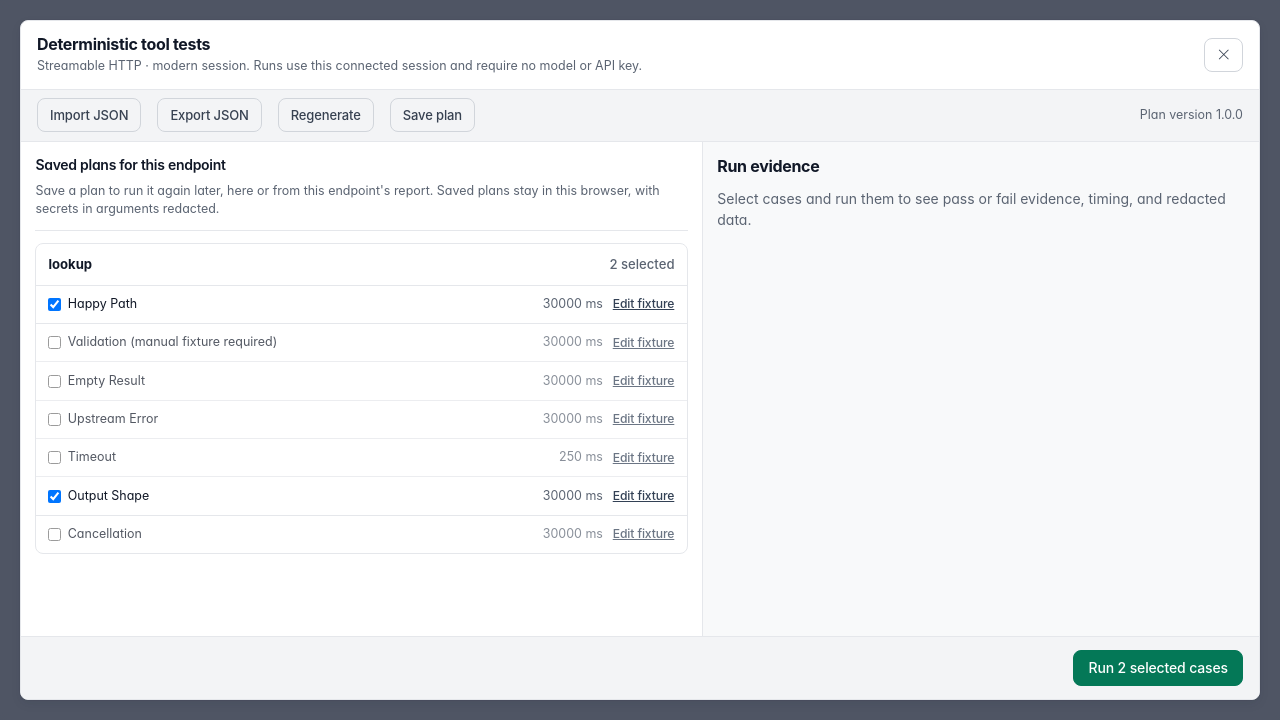
Test case: DeterministicTestPanel › runs selected read-only fixtures and renders pass/fail evidence
This screenshot has width=1280, height=720.
Click the button "Run 2 selected cases" at (1158, 668), box [1074, 650, 1243, 686]
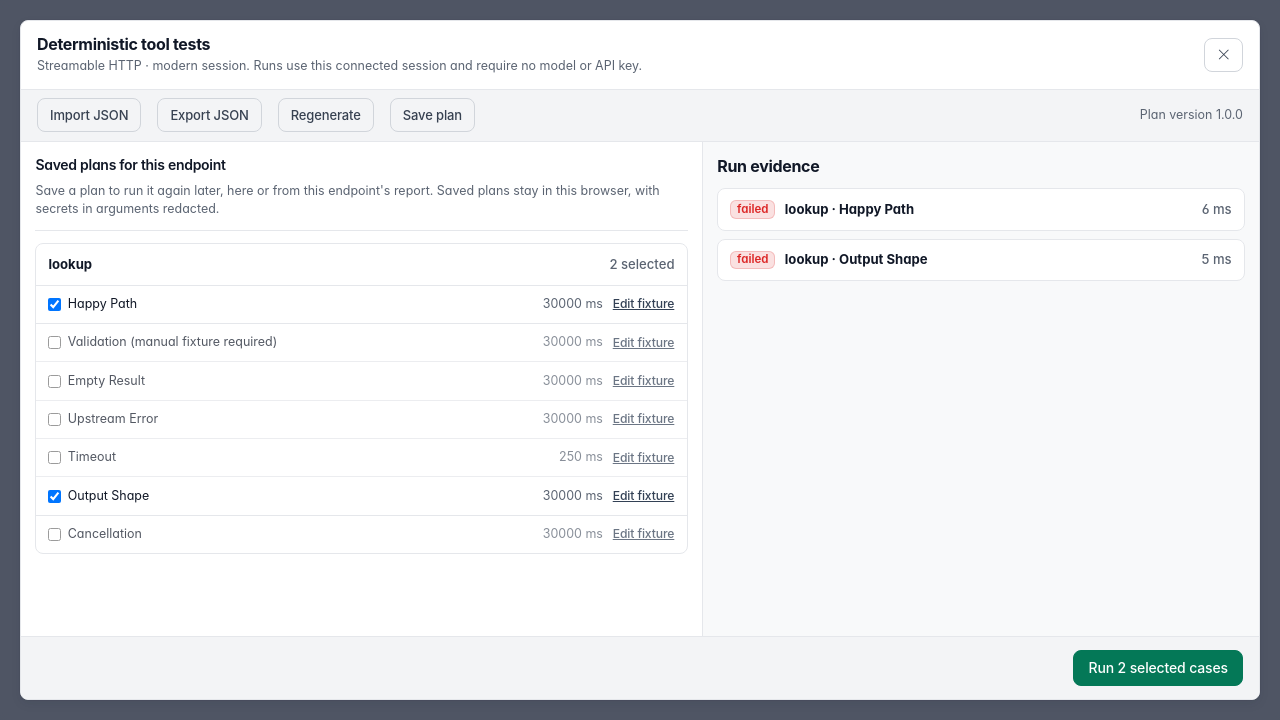
Expected: the number of elements with class "test-result" is 2, [717, 188, 1245, 231]; [717, 239, 1245, 282]
